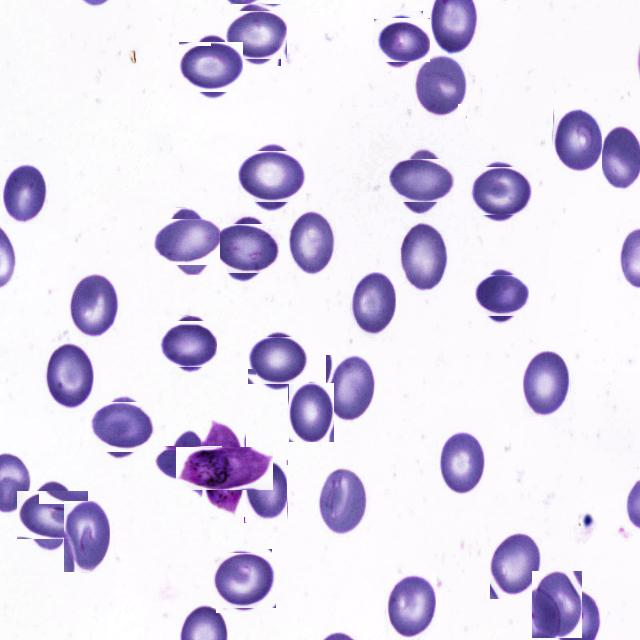gametocyte: (190, 434, 260, 504)
red blood cell: (214, 551, 274, 611), (242, 147, 302, 207), (22, 485, 82, 545), (490, 530, 542, 599), (326, 355, 378, 423), (44, 342, 94, 412), (413, 55, 467, 119), (217, 220, 276, 278), (552, 106, 602, 174), (63, 501, 110, 573), (399, 222, 448, 291), (92, 398, 150, 456), (532, 571, 582, 638), (182, 38, 240, 95), (158, 213, 216, 270), (69, 272, 119, 338), (386, 574, 436, 640), (320, 467, 369, 534), (522, 350, 570, 418), (438, 430, 487, 496), (288, 209, 337, 275), (472, 162, 528, 218), (394, 154, 450, 208), (229, 8, 284, 62), (351, 272, 396, 338), (252, 333, 306, 388), (162, 318, 215, 371), (3, 162, 48, 224), (244, 460, 288, 523), (288, 383, 334, 443), (162, 437, 214, 489), (376, 14, 427, 65), (478, 272, 526, 320)
